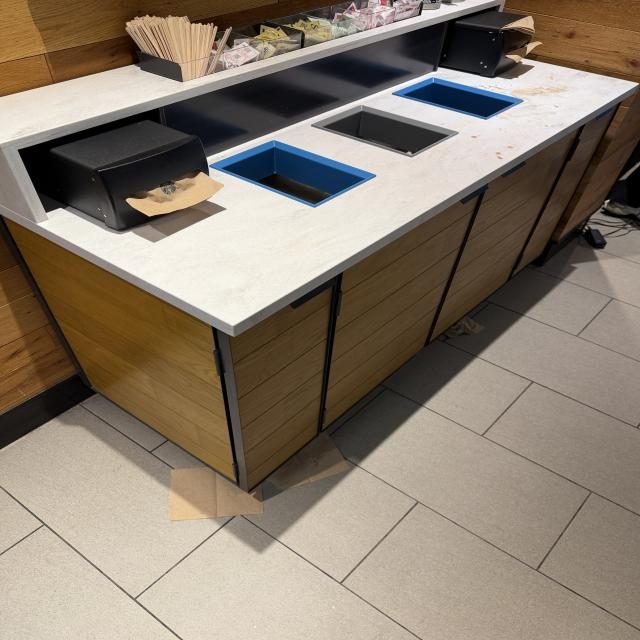Dustbin: (11, 32, 640, 493)
